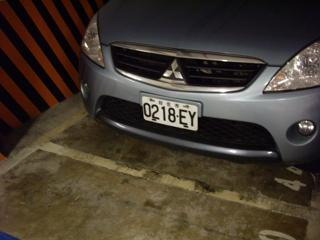plate: (139, 94, 199, 135)
